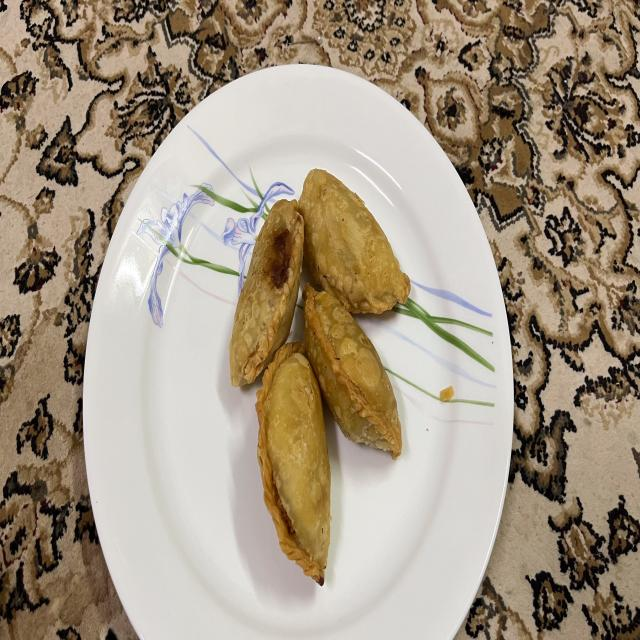karipap: (256, 342, 331, 584), (302, 284, 402, 458), (299, 169, 410, 313), (229, 200, 304, 387)
